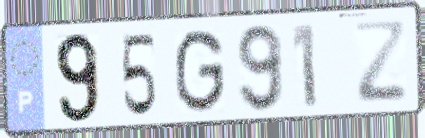1: (290, 20, 320, 110)
5: (119, 31, 159, 118)
9: (52, 30, 102, 125), (234, 21, 285, 114)
G: (173, 26, 227, 116)
Z: (352, 20, 409, 106)
